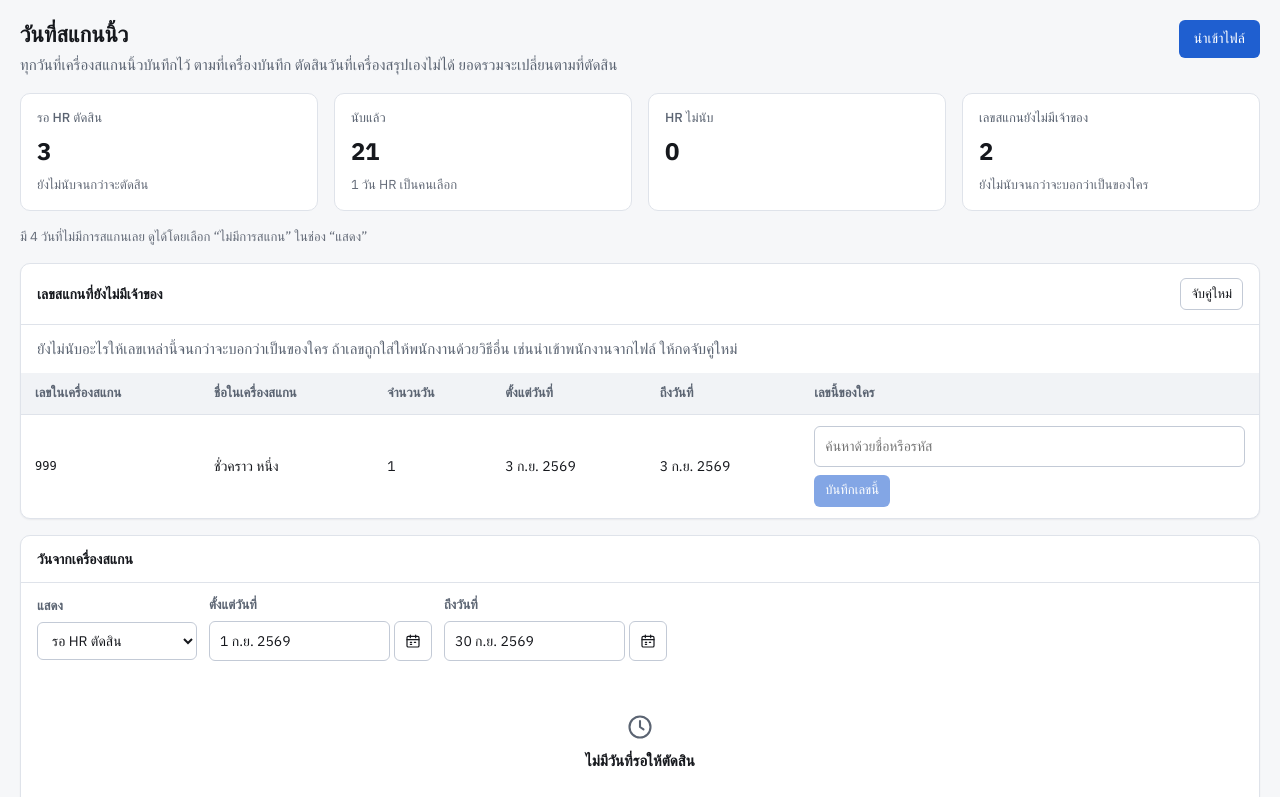
Reviewing the scanner’s days (CW-061) › a refusal from the server, in the language of the screen (CW-096) › says in Thai that the employee already has a scanner number
This screenshot has width=1280, height=797.
Type "มานี" into the search field named "ค้นหาพนักงานของเลข 999". click: coordinates (1030, 446)
box: [814,426,1245,467]
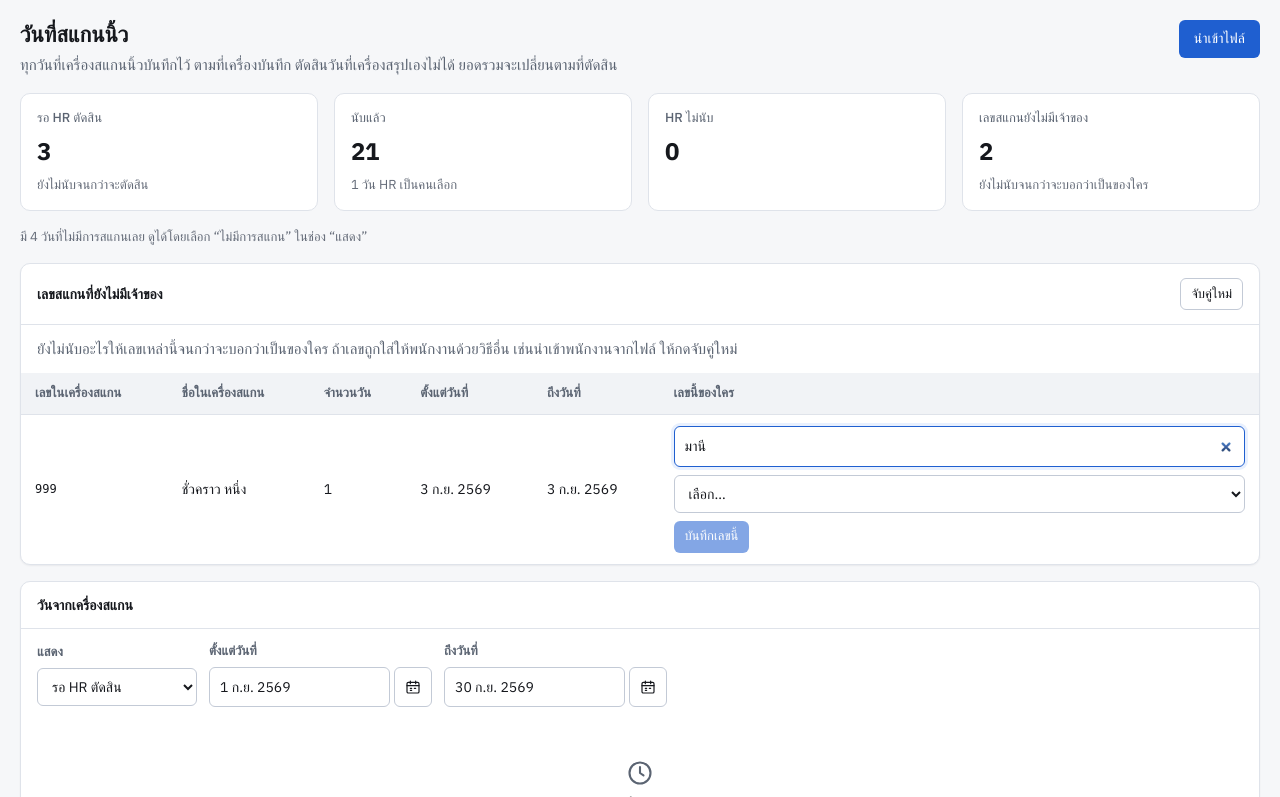
Select "EMP-0009 · มานี มีตา" in the dropdown named "พนักงานของเลข 999". click: coordinates (959, 494)
box: [674,475,1245,513]
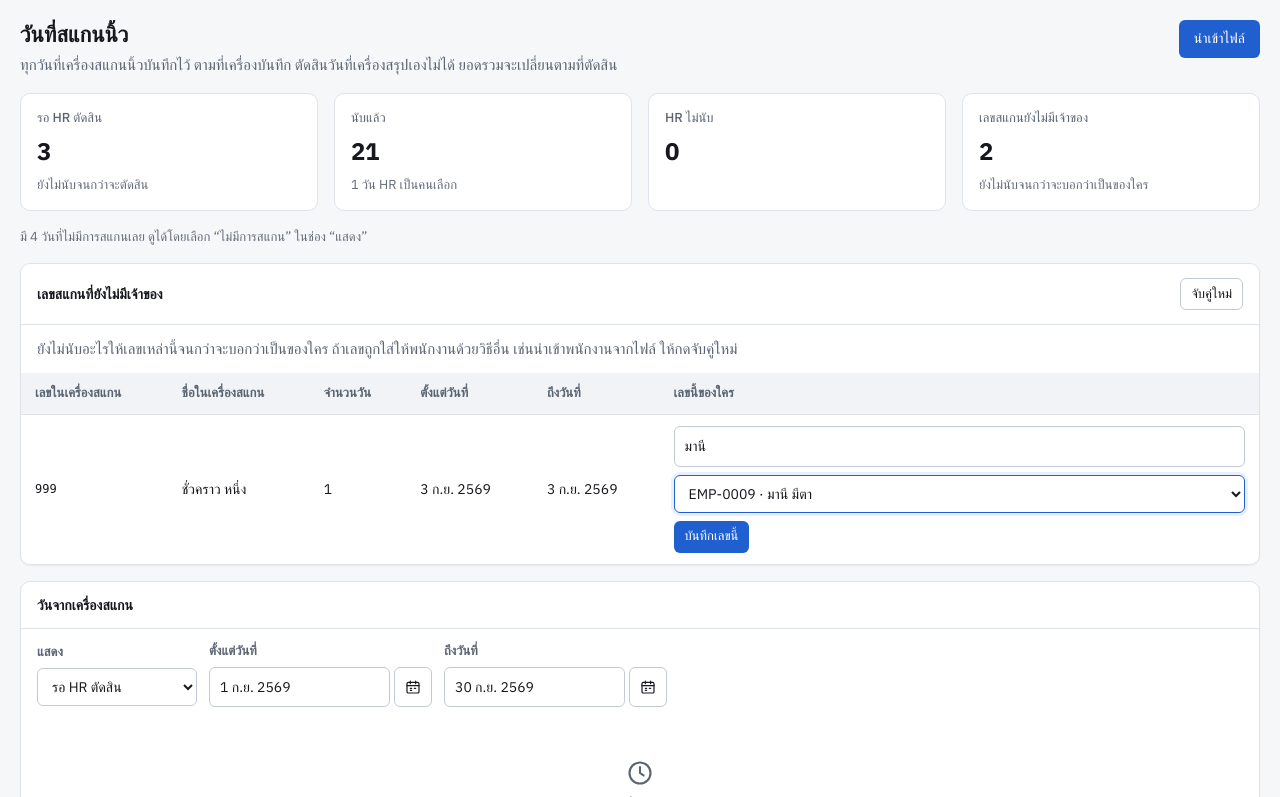
Click the button "บันทึกเลขนี้". click: coordinates (712, 537)
box: [674,521,749,553]
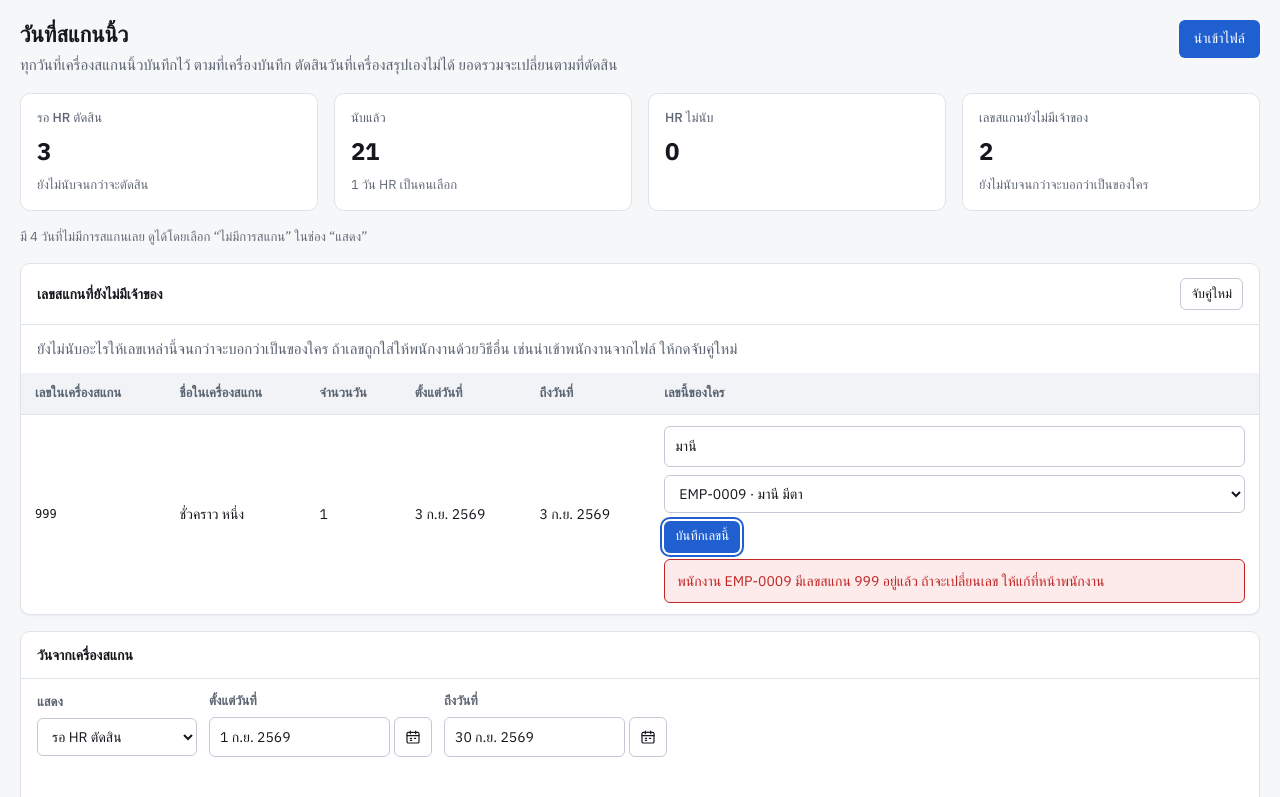
Result: the text "พนักงาน EMP-0009 มีเลขสแกน 999 อยู่แล้ว ถ้าจะเปลี่ยนเลข ให้แก้ที่หน้าพนักงาน" is shown at [664,559,1245,603]
